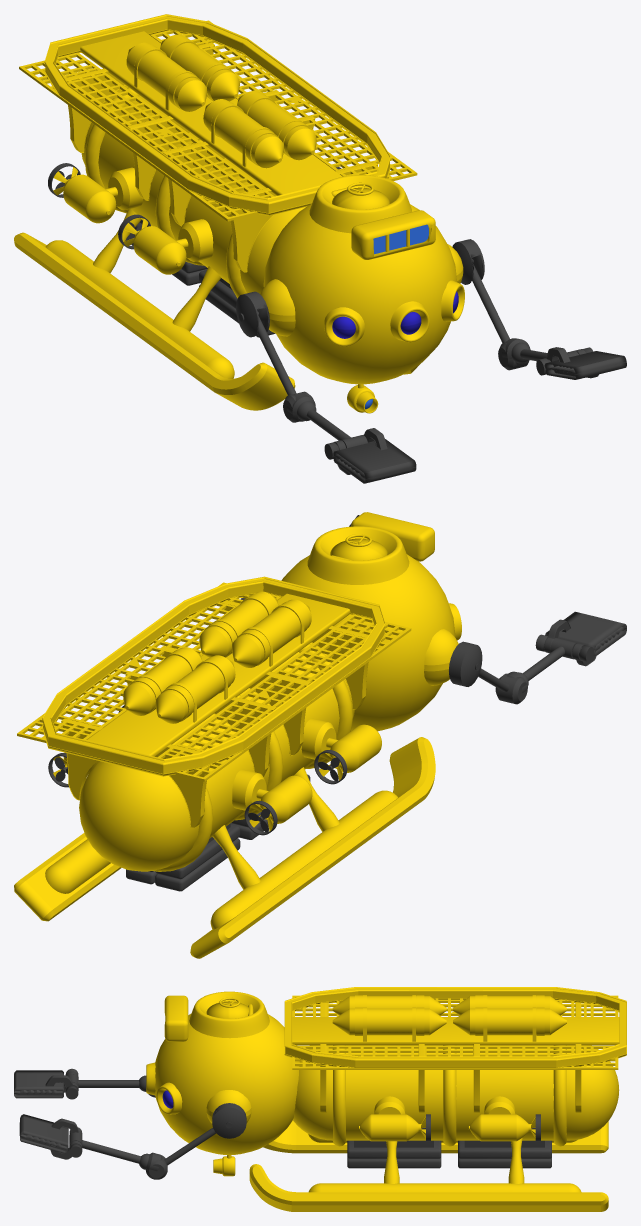
3 renders of one model, top to bottom at view 1: azimuth 30°, elevation 25°; view 2: azimuth 150°, elevation 25°; view 3: azimuth 270°, elevation 25°, orthographic. The views are drawn at different scales.
Visible parts, largest first — view 1: Pod_Front, Top_Rail, Cage_Left, Rail_01, Sub_Back, Tanks_Board, Cage_Right, Pad_01, Port_Door_Rim, Tank_02, Tank_01, Light_Housing_Top (+26 smaller); view 2: Sub_Back, Top_Rail, Pod_Front, Rail_01, Cage_Left, Tanks_Board, Cage_Right, Port_Door_Rim, Pad_01, Rail_02, Support_01, Tank_02 (+24 smaller); view 3: Sub_Back, Pod_Front, Top_Rail, Rail_02, Tanks_Board, Cage_Right, Pad_02, Rail_01, Port_Door_Rim, Tank_04, Tank_03, Engine_Front_04 (+31 smaller).
Part boxes in pixels (x1,y1,x2,y2): Pod_Front: [263, 204, 456, 384]; Top_Rail: [44, 14, 390, 215]; Cage_Left: [19, 52, 274, 221]; Rail_01: [14, 232, 295, 410]; Sub_Back: [81, 85, 306, 293]; Tanks_Board: [80, 31, 342, 195]; Cage_Right: [150, 20, 417, 180]; Pad_01: [45, 240, 234, 378]; Port_Door_Rim: [309, 175, 411, 233]; Tank_02: [126, 42, 207, 111]; Tank_01: [203, 99, 283, 168]; Light_Housing_Top: [351, 210, 435, 259]; Sub_Back: [79, 642, 354, 871]; Top_Rail: [42, 576, 385, 776]; Pod_Front: [281, 554, 455, 731]; Rail_01: [190, 737, 435, 958]; Cage_Left: [158, 614, 411, 781]; Tanks_Board: [87, 593, 350, 756]; Cage_Right: [17, 582, 281, 742]; Port_Door_Rim: [307, 526, 409, 584]; Pad_01: [210, 790, 397, 929]; Rail_02: [14, 833, 121, 921]; Support_01: [61, 718, 209, 827]; Tank_02: [155, 655, 235, 723]; Sub_Back: [293, 1045, 619, 1140]; Pod_Front: [155, 1013, 299, 1154]; Top_Rail: [284, 987, 626, 1067]; Rail_02: [249, 1164, 608, 1211]; Tanks_Board: [292, 1017, 619, 1045]; Cage_Right: [292, 1045, 618, 1069]; Pad_02: [308, 1183, 581, 1192]; Rail_01: [263, 1120, 608, 1153]; Port_Door_Rim: [189, 991, 269, 1038]; Tank_04: [453, 1008, 566, 1035]; Tank_03: [332, 1008, 446, 1035]; Engine_Front_04: [360, 1114, 418, 1141].
Bounding box in the file's own units: 1.53 × 1.26 × 3.9.
